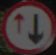Two way: (8, 3, 49, 45)
